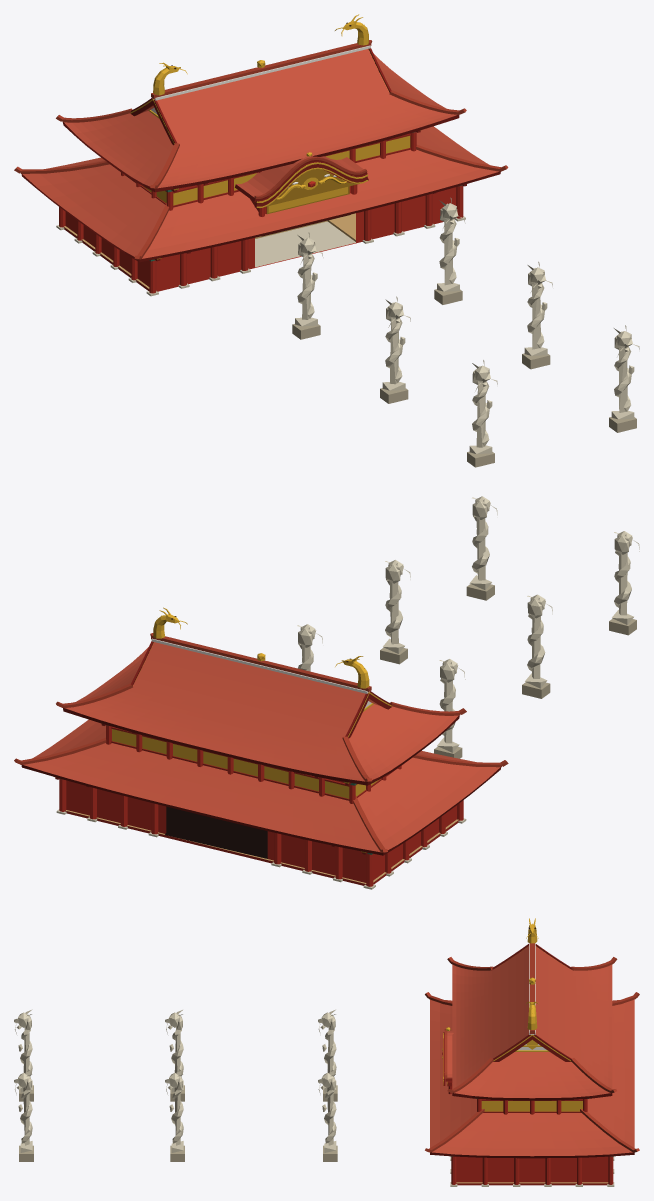
Rendered from Ryugu_Iriguchi.fbx.
3 views of the same model, one above another, from view 1: azimuth 30°, elevation 25°; view 2: azimuth 150°, elevation 25°; view 3: azimuth 270°, elevation 25° (orthographic). The views are drawn at different scales.
Parts seen in each view (by area): view 1: big_yne, yane1, 1F, yane_mini, 2F, hashira6, hashira3, hashira5, hashira1, hashira4, hashira2, yane_kazari; view 2: big_yne, yane1, 1F, 2F, hashira4, hashira2, hashira6, hashira3, hashira1, yane_kazari, hashira5; view 3: big_yne, yane1, 1F, 2F, hashira5, hashira4, hashira6, hashira1, hashira3, hashira2, yane_mini, yane_kazari.
Part boxes in pixels (x1,y1,x2,y2): big_yne: [56, 40, 466, 192]; yane1: [14, 126, 508, 262]; 1F: [56, 184, 466, 296]; yane_mini: [235, 152, 368, 216]; 2F: [110, 130, 420, 210]; hashira6: [522, 261, 552, 369]; hashira3: [467, 360, 497, 467]; hashira5: [434, 197, 465, 304]; hashira1: [292, 232, 323, 339]; hashira4: [609, 325, 639, 432]; hashira2: [380, 296, 410, 403]; yane_kazari: [153, 14, 368, 95]; big_yne: [56, 633, 466, 785]; yane1: [14, 719, 508, 855]; 1F: [55, 777, 466, 889]; 2F: [101, 723, 409, 803]; hashira4: [466, 496, 497, 600]; hashira2: [522, 594, 552, 698]; hashira6: [380, 560, 410, 664]; hashira3: [609, 531, 639, 635]; hashira1: [434, 659, 465, 758]; yane_kazari: [153, 607, 369, 688]; hashira5: [297, 624, 322, 671]; big_yne: [447, 943, 617, 1100]; yane1: [425, 992, 639, 1158]; 1F: [450, 1156, 614, 1186]; 2F: [476, 1098, 588, 1114]; hashira5: [318, 1070, 337, 1161]; hashira4: [14, 1070, 33, 1161]; hashira6: [165, 1070, 184, 1161]; hashira1: [318, 1009, 337, 1101]; hashira3: [14, 1009, 33, 1101]; hashira2: [165, 1010, 184, 1101]; yane_mini: [442, 1027, 453, 1093]; yane_kazari: [526, 918, 538, 1029].
Bounding box in the file's own units: 11691 × 5740 × 19481.
